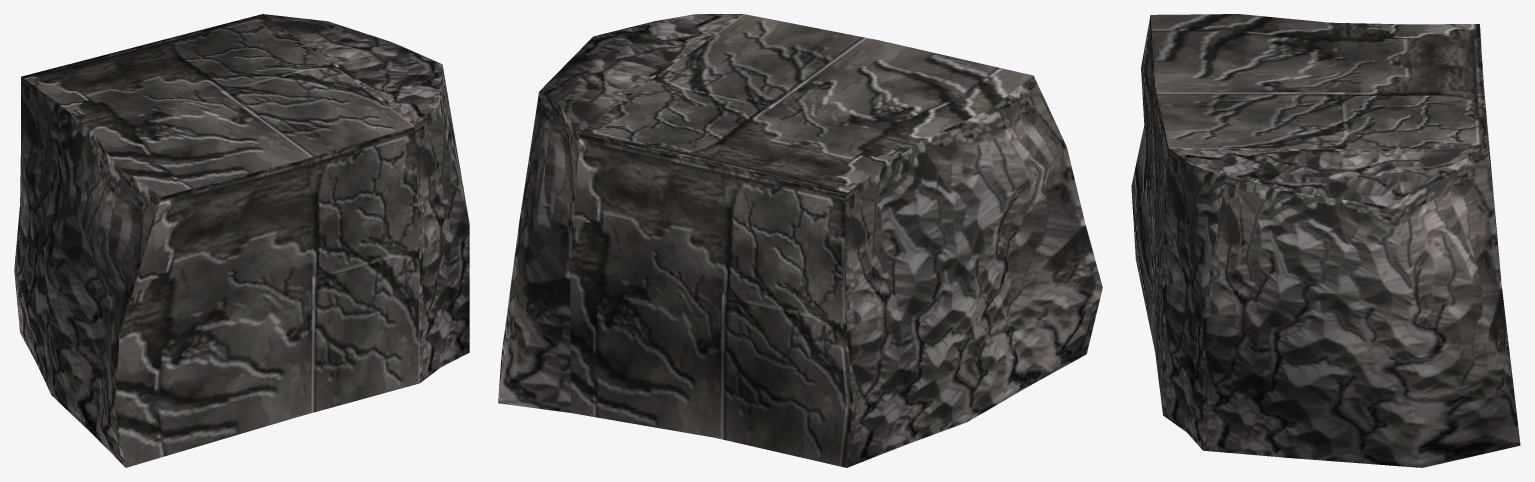
File: INST_SM_DEBRIS_BLOCK_MEDIUMC.fbx
3 views of the same model, side by side, from view 1: azimuth 30°, elevation 25°; view 2: azimuth 150°, elevation 25°; view 3: azimuth 270°, elevation 25° (orthographic). The views are drawn at different scales.
Visible parts, largest first — view 1: INST_SM_DEBRIS_BLOCK_MEDIUMC; view 2: INST_SM_DEBRIS_BLOCK_MEDIUMC; view 3: INST_SM_DEBRIS_BLOCK_MEDIUMC.
Boxes of the visible parts, x1,y1,x2,y2 form: INST_SM_DEBRIS_BLOCK_MEDIUMC: (14,14,469,467); INST_SM_DEBRIS_BLOCK_MEDIUMC: (498,14,1102,467); INST_SM_DEBRIS_BLOCK_MEDIUMC: (1131,14,1520,467).
Size of the model in its own units: 67023 by 38688 by 51245.
2 materials, 2 textured.
